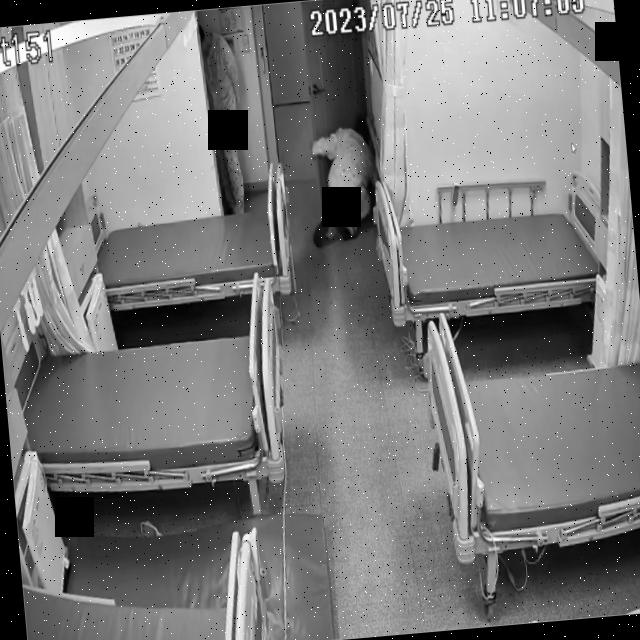bed: (419, 296, 640, 559), (16, 322, 290, 496), (372, 188, 616, 326), (95, 196, 292, 310)
fall: (306, 110, 378, 248)
patient: (200, 7, 250, 214), (309, 110, 380, 248)
stand: (198, 6, 250, 212)
